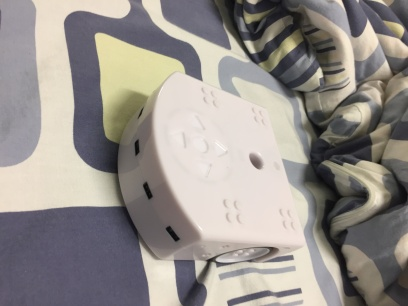thymio: (106, 69, 312, 270)
